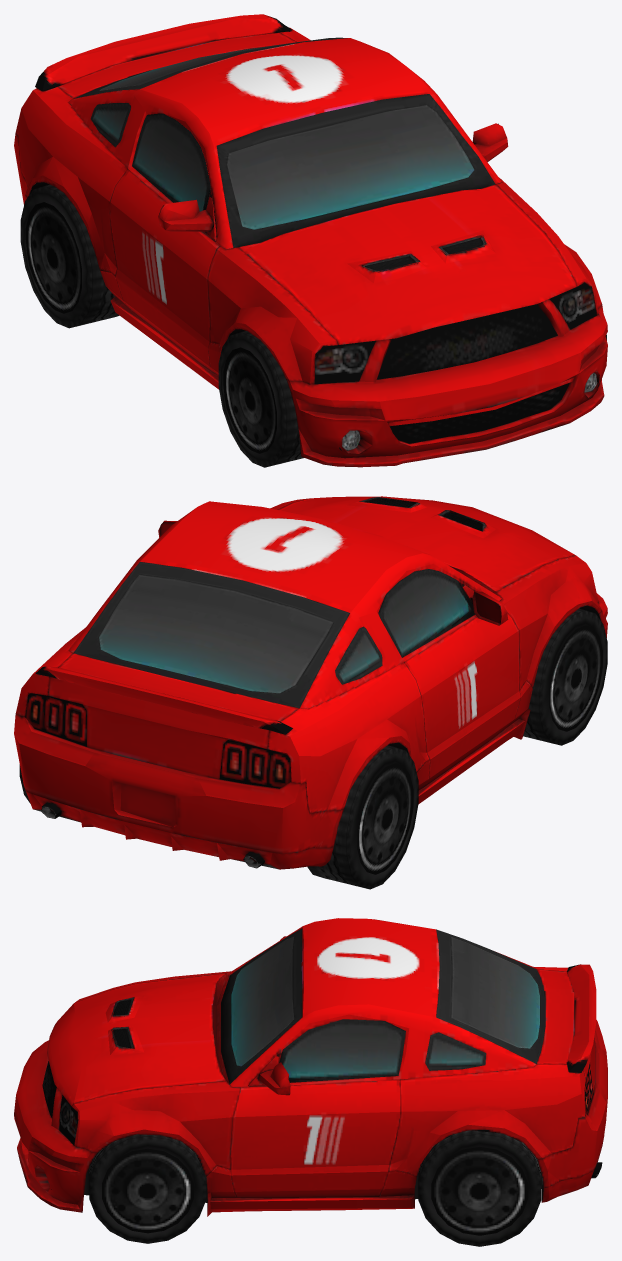
The model's file is Car 1.glb.
3 renders of one model, top to bottom at view 1: azimuth 30°, elevation 25°; view 2: azimuth 150°, elevation 25°; view 3: azimuth 270°, elevation 25°, orthographic. The views are drawn at different scales.
Visible parts, largest first — view 1: carBody_low, tireBackR_low_001, tireFrontR_low_001; view 2: carBody_low, tireBackR_low_001, tireFrontR_low_001; view 3: carBody_low, tireBackL_low_001, tireFrontL_low_001.
Part boxes in pixels (x1,y1,x2,y2): carBody_low: [14, 14, 607, 467]; tireBackR_low_001: [20, 184, 119, 328]; tireFrontR_low_001: [218, 331, 303, 467]; carBody_low: [14, 496, 607, 869]; tireBackR_low_001: [307, 745, 418, 889]; tireFrontR_low_001: [523, 608, 607, 745]; carBody_low: [14, 918, 607, 1216]; tireBackL_low_001: [418, 1130, 541, 1246]; tireFrontL_low_001: [89, 1134, 206, 1243].
Bounding box in the file's own units: 0.6502 × 0.4681 × 1.14.
Materials: 2 (2 with a texture image).
